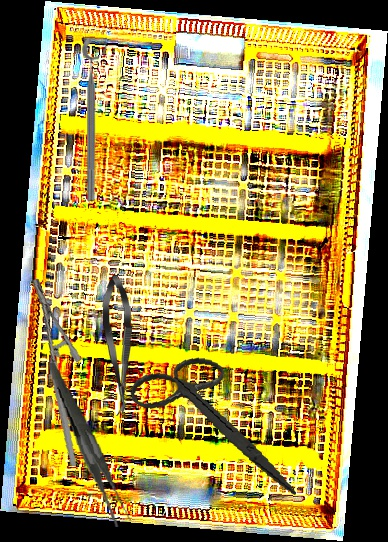Dressing Forceps: (48, 356, 132, 533)
Fixation Ring: (82, 39, 108, 201)
Iris Scissors: (118, 346, 315, 497)
Micro Scissor: (100, 273, 137, 417)
Needle Holder: (7, 278, 101, 467)
